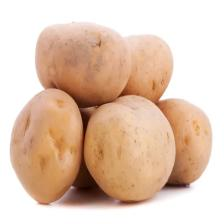Potato: (82, 93, 178, 205), (8, 86, 85, 209), (34, 20, 133, 108), (99, 32, 175, 111)
